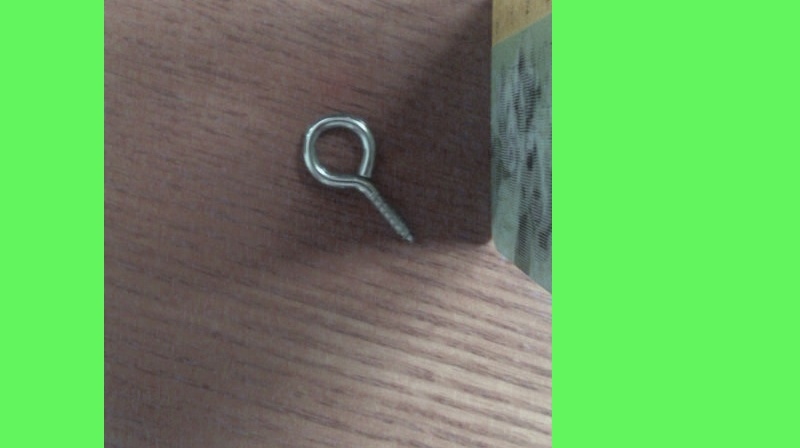O001: (297, 109, 421, 246)
